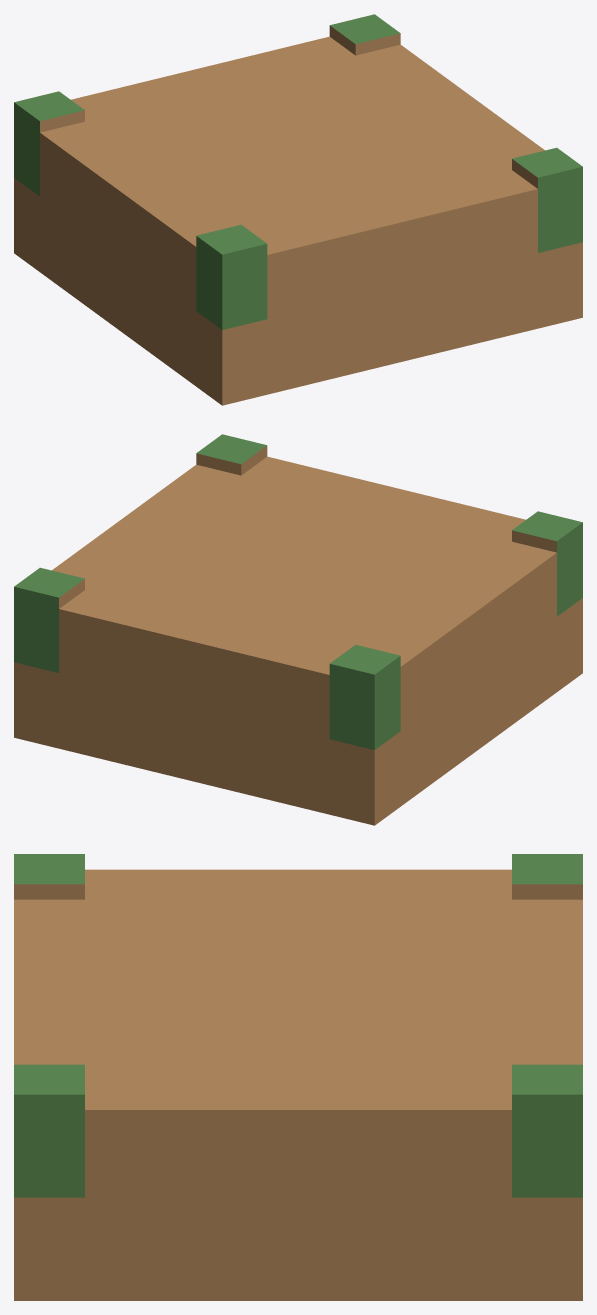
Rendered from tile.dae.
The picture shows the model from 3 angles, top to bottom: view 1: azimuth 30°, elevation 25°; view 2: azimuth 150°, elevation 25°; view 3: azimuth 270°, elevation 25°; orthographic projection. The views are drawn at different scales.
Parts seen in each view (by area): view 1: tile; view 2: tile; view 3: tile.
Boxes of the visible parts, x1,y1,x2,y2 form: tile: (14,14,582,405); tile: (14,434,582,825); tile: (14,854,582,1300).
Size of the model in its own units: 1 by 0.4 by 1.
